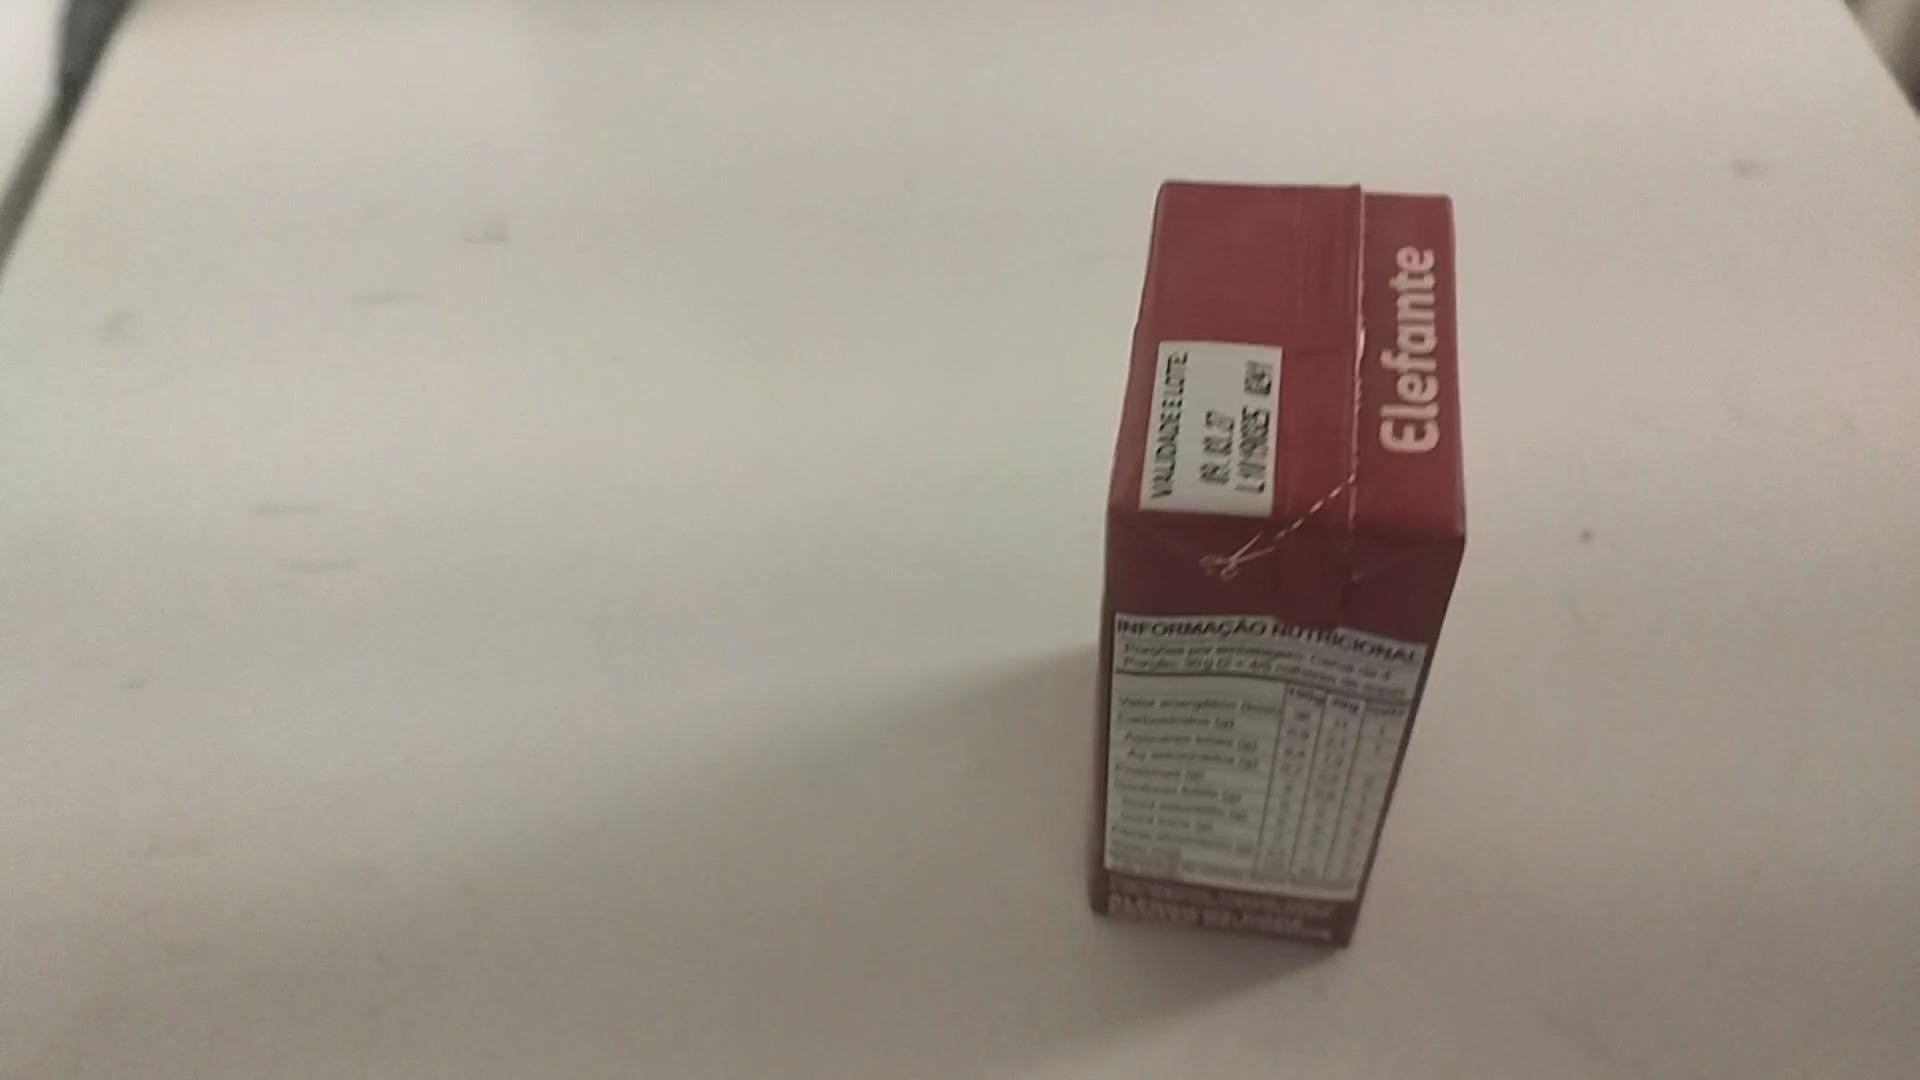tomate: (1089, 173, 1470, 957)
